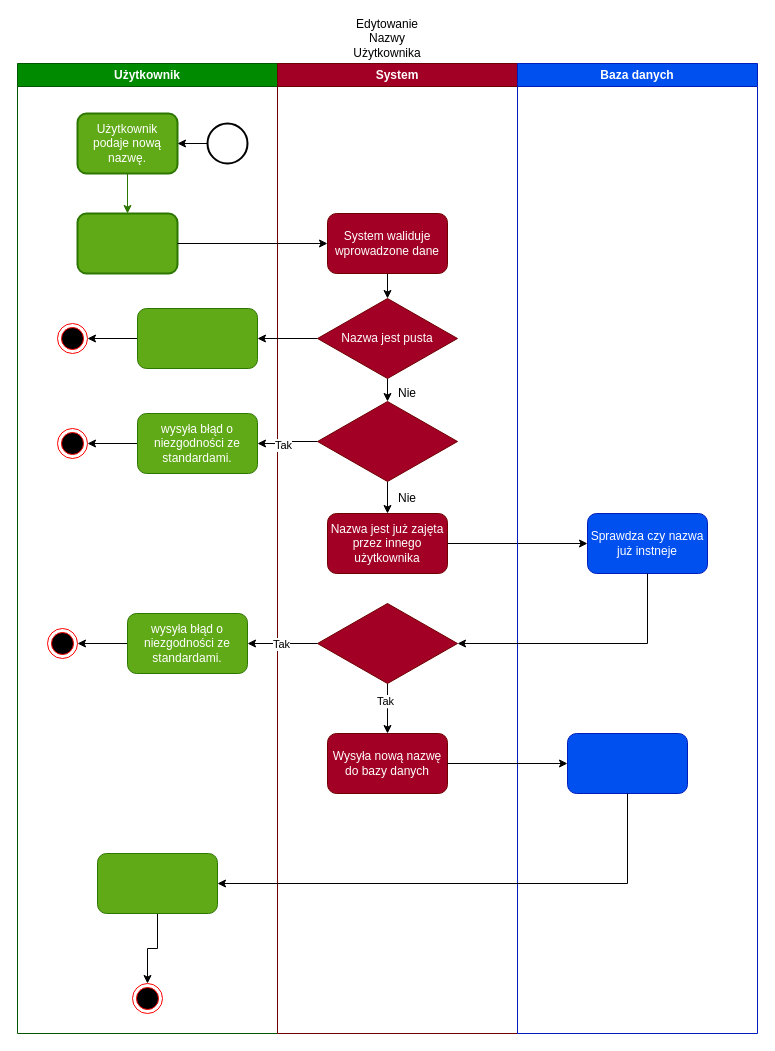
This 775x1051 diagram has some shape labels left out. Here are the shapes that lost their labels. From the top down, the centre of each, then its label:
At point 127,243: "Użytkownik wysyła dane z formularza.".
At point 197,338: "wysyła błąd o pustej nazwie".
At point 387,441: "Nazwa jest niezgodna ze standardami".
At point 387,643: "Zajęta?".
At point 627,763: "Aktualizuje nazwe".
At point 157,883: "wyświetla komunikat o sukcesie".
